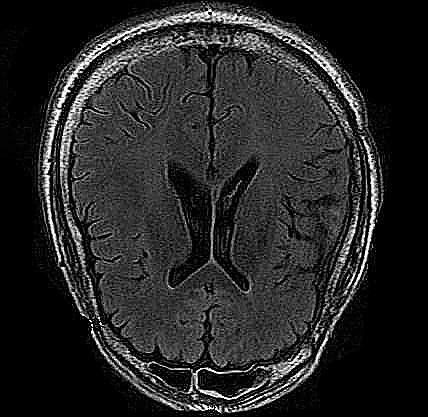Normal_Brain: (4, 4, 428, 417)
